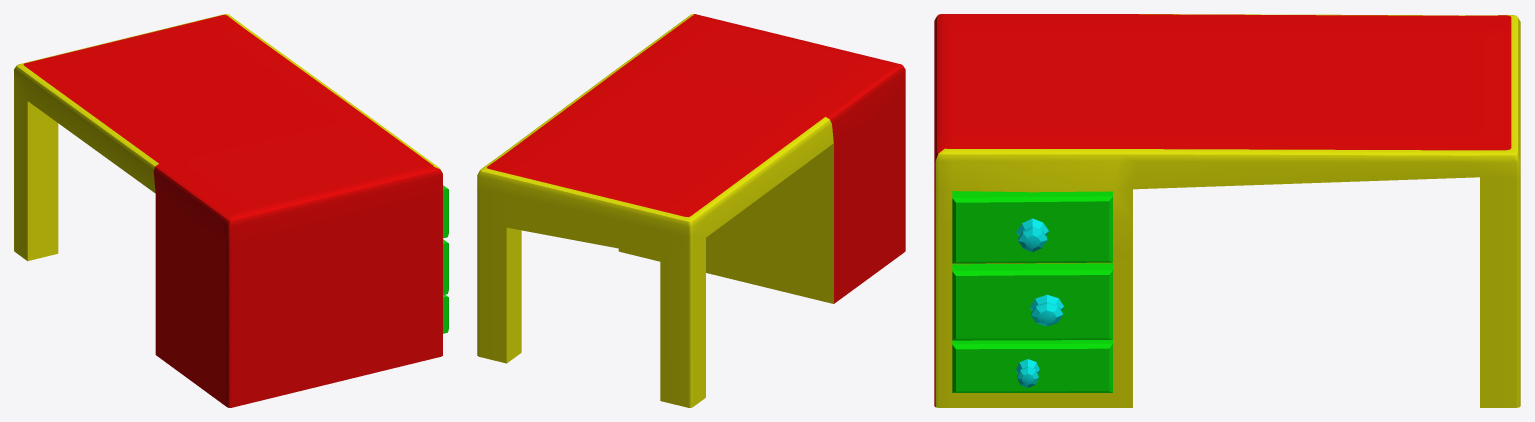
Rendered from Desk.fbx.
3 renders of one model, left to right at view 1: azimuth 30°, elevation 25°; view 2: azimuth 150°, elevation 25°; view 3: azimuth 270°, elevation 25°, orthographic. The views are drawn at different scales.
Parts seen in each view (by area): view 1: Desk; view 2: Desk; view 3: Desk.
Part boxes in pixels (box(x1,y1,x2,y2)): Desk: box(14, 14, 448, 407); Desk: box(477, 14, 905, 407); Desk: box(934, 14, 1520, 407).
Size of the model in its own units: 49.45 by 36.22 by 75.47.
